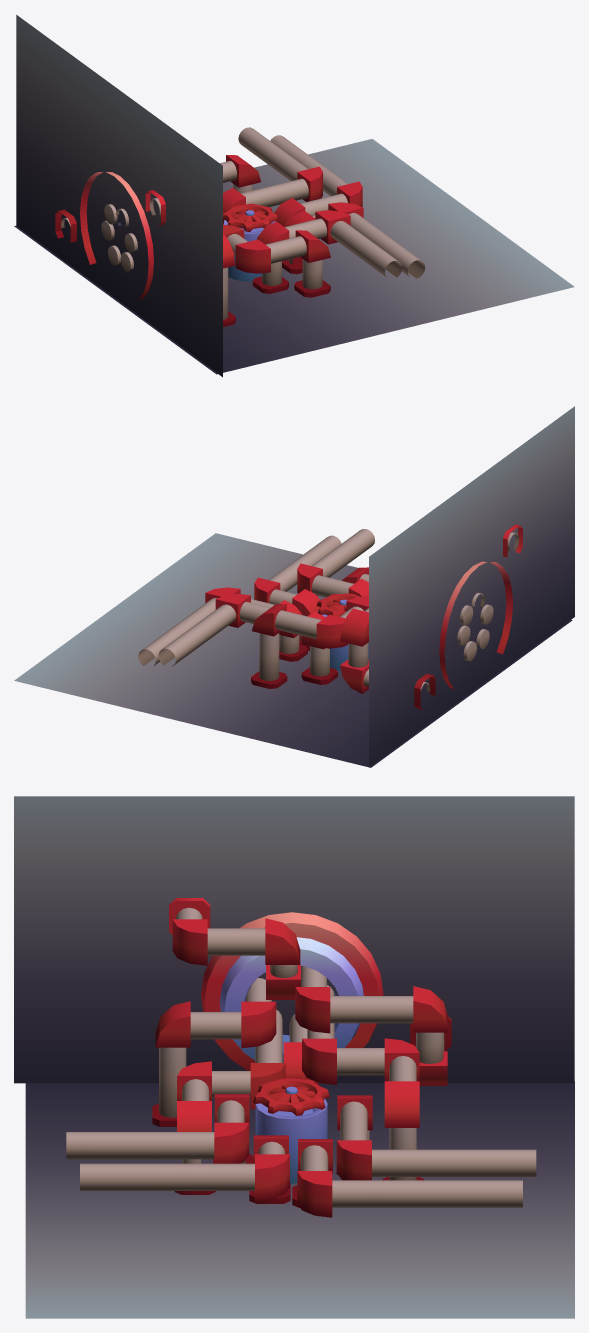
File: lev_11.fbx
The picture shows the model from 3 angles, top to bottom: view 1: azimuth 30°, elevation 25°; view 2: azimuth 150°, elevation 25°; view 3: azimuth 270°, elevation 25°; orthographic projection. The views are drawn at different scales.
Visible parts, largest first — view 1: lev_12; view 2: lev_12; view 3: lev_12.
Boxes of the visible parts, x1,y1,x2,y2 form: lev_12: [14, 15, 574, 377]; lev_12: [14, 406, 574, 767]; lev_12: [14, 796, 574, 1318].
Size of the model in its own units: 3794 by 2161 by 3749.
Materials: 1 (1 with a texture image).
